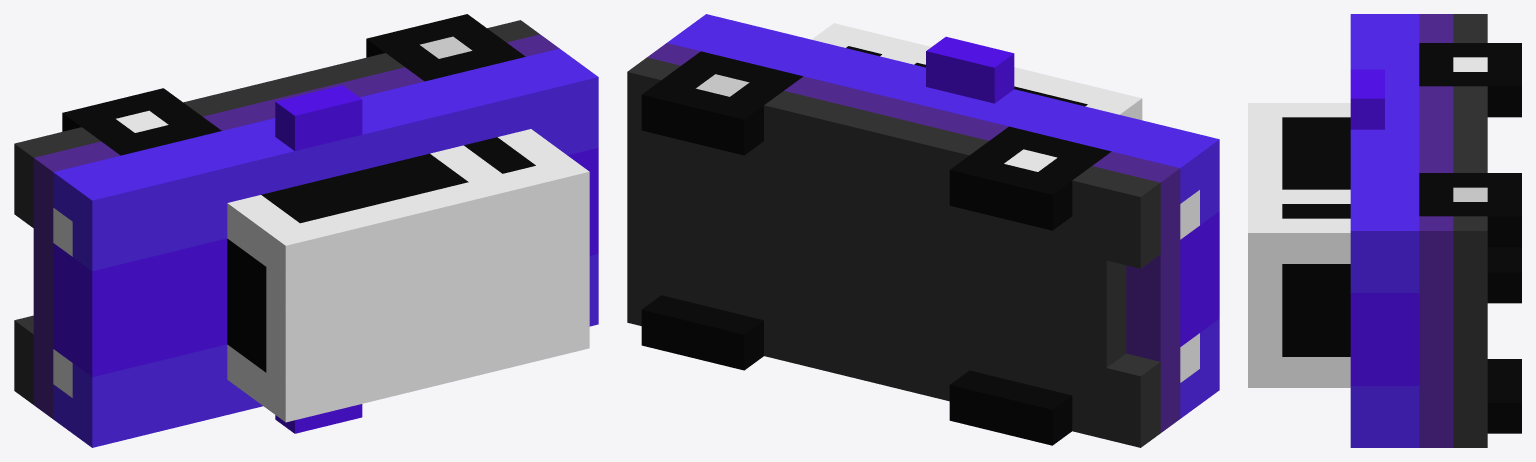
The model's file is VoxelCarA.obj.
The picture shows the model from 3 angles, left to right: view 1: azimuth 30°, elevation 25°; view 2: azimuth 150°, elevation 25°; view 3: azimuth 270°, elevation 25°; orthographic projection. The views are drawn at different scales.
Parts seen in each view (by area): view 1: VoxelCar_A; view 2: VoxelCar_A; view 3: VoxelCar_A.
Part boxes in pixels (<box>): VoxelCar_A: <box>14,14,598,447</box>; VoxelCar_A: <box>627,14,1219,447</box>; VoxelCar_A: <box>1248,14,1521,447</box>.
Bounding box in the file's own units: 1.96 × 1.18 × 1.05.
